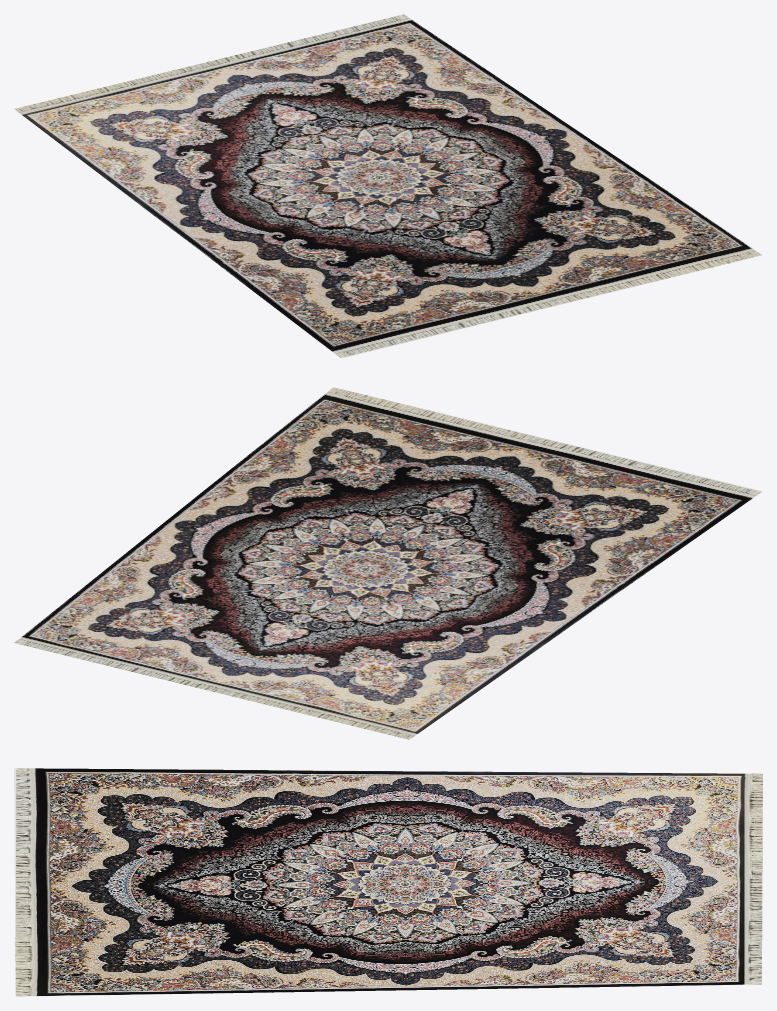
The model's file is carpet.glb.
The picture shows the model from 3 angles, top to bottom: view 1: azimuth 30°, elevation 25°; view 2: azimuth 150°, elevation 25°; view 3: azimuth 270°, elevation 25°; orthographic projection. The views are drawn at different scales.
Parts seen in each view (by area): view 1: Object_2; view 2: Object_2; view 3: Object_2.
Boxes of the visible parts, bbox=[...] form: Object_2: bbox=[14, 14, 762, 358]; Object_2: bbox=[14, 387, 762, 739]; Object_2: bbox=[14, 768, 762, 996].
Bounding box in the file's own units: 273 × 8.39e-14 × 378.
Materials: 1 (1 with a texture image).
